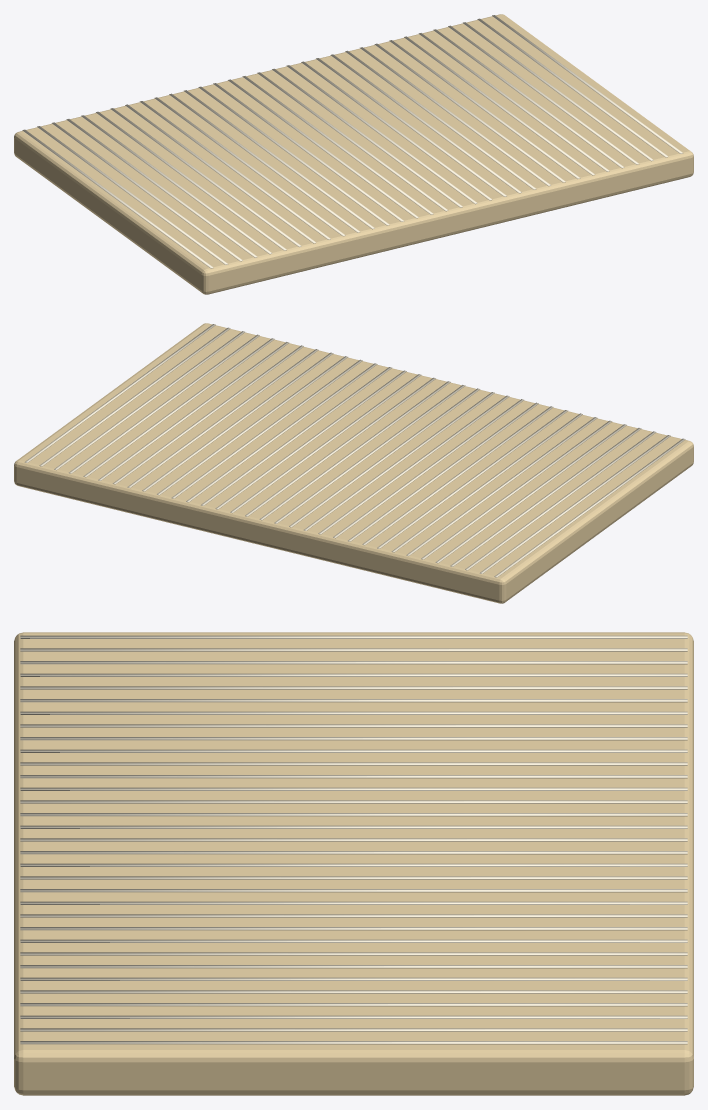
The picture shows the model from 3 angles, top to bottom: view 1: azimuth 30°, elevation 25°; view 2: azimuth 150°, elevation 25°; view 3: azimuth 270°, elevation 25°; orthographic projection. The views are drawn at different scales.
Parts seen in each view (by area): view 1: CP04-mat; view 2: CP04-mat; view 3: CP04-mat.
Part boxes in pixels (x1,y1,x2,y2): CP04-mat: (14, 14, 693, 294); CP04-mat: (14, 323, 693, 603); CP04-mat: (14, 632, 693, 1095).
Bounding box in the file's own units: 3.25 × 0.1635 × 2.2.
